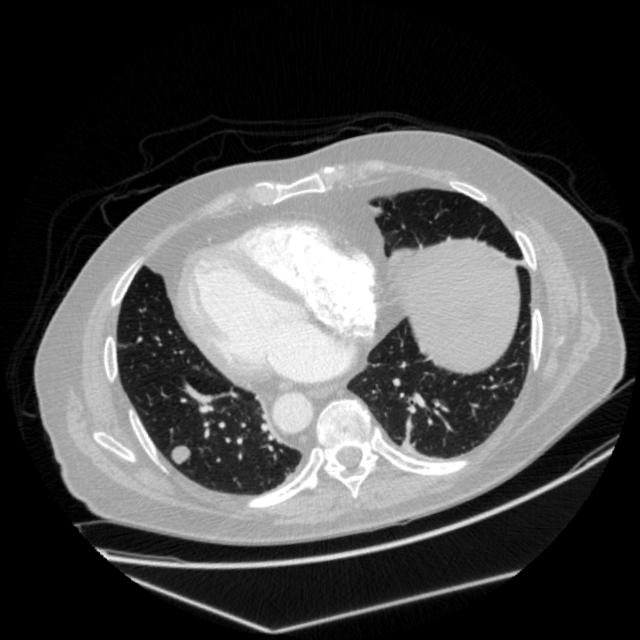nodule: (158, 428, 206, 476)
